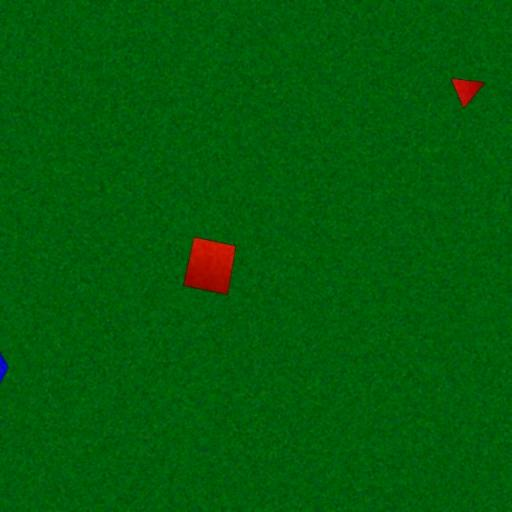RED_SQUARE: (182, 236, 237, 296)
